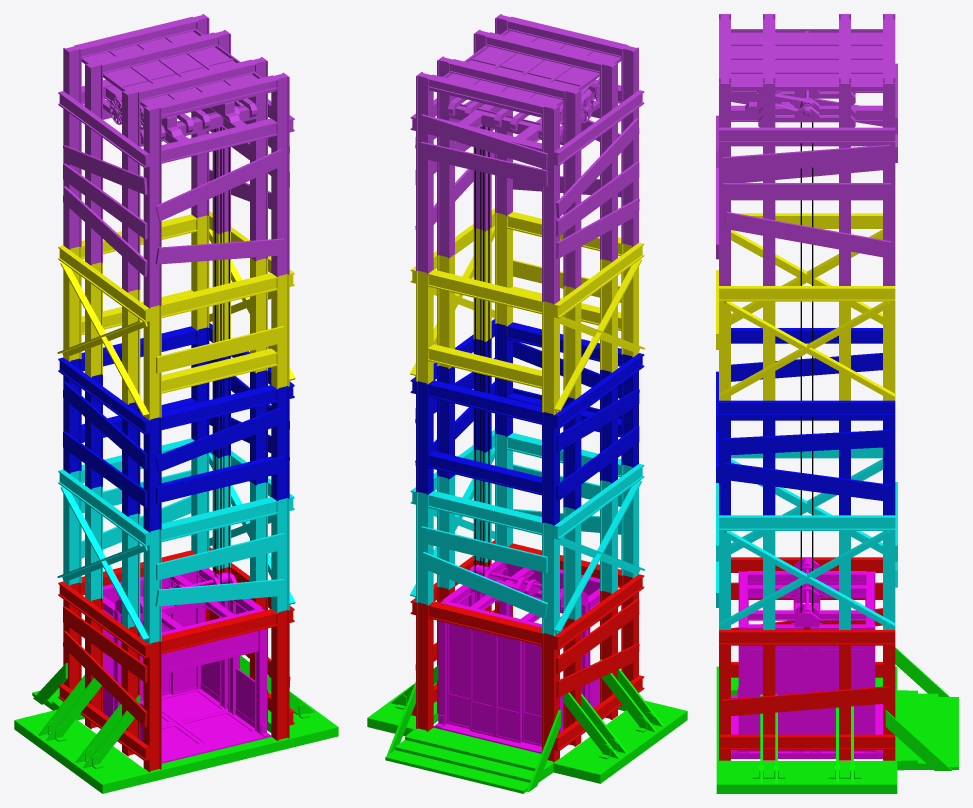
The model's file is Elevator_Full.fbx.
3 renders of one model, left to right at view 1: azimuth 30°, elevation 25°; view 2: azimuth 150°, elevation 25°; view 3: azimuth 270°, elevation 25°, orthographic. The views are drawn at different scales.
Parts seen in each view (by area): view 1: Elevator_Top, Elevator_Tunnel_03, Elevator_Tunnel_01, Elevator_Tunnel_02, Elevator_Base, Elevator_Box, Elevator_Floor, Elevator_Wire_03, Elevator_Wire_04; view 2: Elevator_Top, Elevator_Tunnel_01, Elevator_Tunnel_02, Elevator_Tunnel_03, Elevator_Box, Elevator_Floor, Elevator_Base, Elevator_Wire_03, Elevator_Wire_04; view 3: Elevator_Top, Elevator_Tunnel_02, Elevator_Base, Elevator_Box, Elevator_Tunnel_03, Elevator_Tunnel_01, Elevator_Floor, Elevator_Wire_04.
Boxes of the visible parts, bbox=[...] form: Elevator_Top: bbox=[58, 14, 294, 308]; Elevator_Tunnel_03: bbox=[57, 211, 295, 420]; Elevator_Tunnel_01: bbox=[57, 438, 295, 644]; Elevator_Tunnel_02: bbox=[58, 323, 294, 532]; Elevator_Base: bbox=[58, 547, 294, 772]; Elevator_Box: bbox=[83, 568, 271, 763]; Elevator_Floor: bbox=[14, 655, 338, 793]; Elevator_Wire_03: bbox=[214, 127, 221, 584]; Elevator_Wire_04: bbox=[223, 128, 229, 583]; Elevator_Top: bbox=[410, 14, 644, 304]; Elevator_Tunnel_01: bbox=[410, 429, 644, 636]; Elevator_Tunnel_02: bbox=[410, 319, 644, 525]; Elevator_Tunnel_03: bbox=[410, 208, 644, 414]; Elevator_Box: bbox=[433, 561, 619, 753]; Elevator_Floor: bbox=[367, 659, 687, 793]; Elevator_Base: bbox=[410, 540, 644, 762]; Elevator_Wire_03: bbox=[483, 104, 489, 576]; Elevator_Wire_04: bbox=[474, 106, 481, 572]; Elevator_Top: bbox=[716, 14, 897, 285]; Elevator_Tunnel_02: bbox=[716, 328, 895, 515]; Elevator_Base: bbox=[719, 557, 895, 760]; Elevator_Box: bbox=[731, 558, 882, 758]; Elevator_Tunnel_03: bbox=[716, 213, 895, 400]; Elevator_Tunnel_01: bbox=[716, 447, 897, 629]; Elevator_Floor: bbox=[716, 647, 958, 793]; Elevator_Wire_04: bbox=[800, 103, 813, 612].
Bounding box in the file's own units: 0.4415 × 1.2 × 0.3838.
